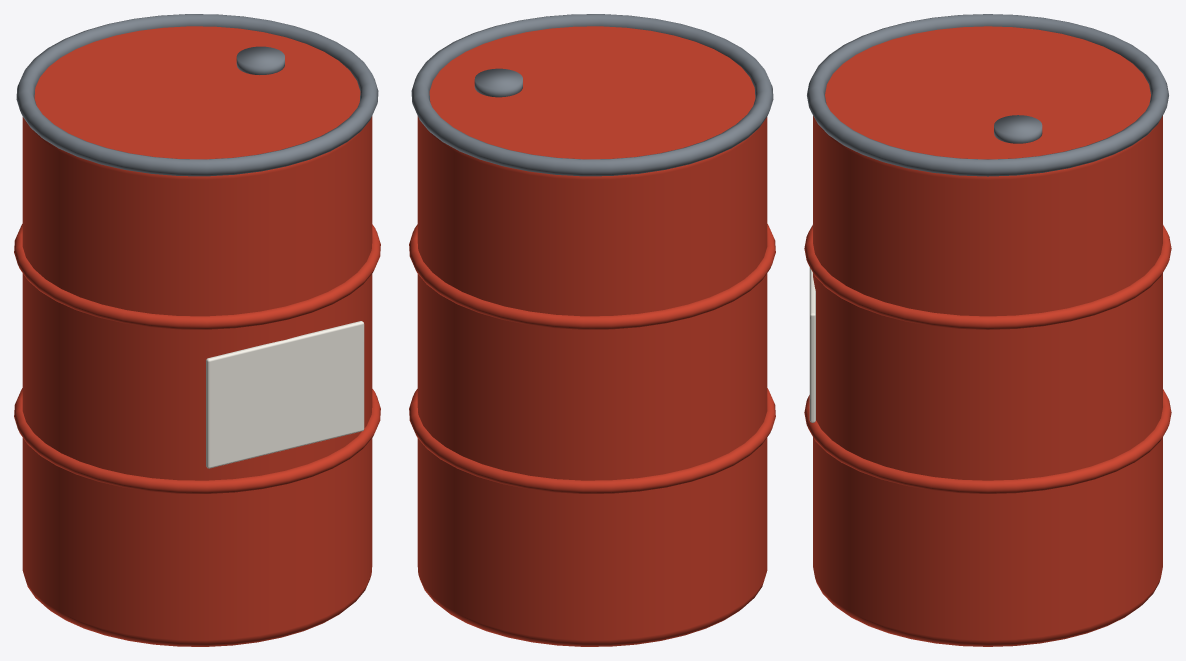
File: drum_red.glb
3 views of the same model, side by side, from view 1: azimuth 30°, elevation 25°; view 2: azimuth 150°, elevation 25°; view 3: azimuth 270°, elevation 25° (orthographic).
Parts seen in each view (by area): view 1: Barrel.001, Label.001, Rim.002, Rib.002, Rib.003, Bung.001; view 2: Barrel.001, Rim.002, Rib.002, Rib.003, Bung.001; view 3: Barrel.001, Rim.002, Rib.003, Rib.002, Bung.001, Label.001.
Part boxes in pixels (x1,y1,x2,y2): Barrel.001: [22, 26, 372, 646]; Label.001: [206, 321, 364, 468]; Rim.002: [16, 14, 378, 176]; Rib.002: [14, 388, 380, 493]; Rib.003: [14, 224, 380, 329]; Bung.001: [236, 46, 284, 74]; Barrel.001: [417, 26, 767, 646]; Rim.002: [411, 14, 773, 176]; Rib.002: [409, 388, 775, 493]; Rib.003: [409, 224, 775, 329]; Bung.001: [474, 68, 522, 97]; Barrel.001: [813, 26, 1162, 646]; Rim.002: [807, 14, 1168, 176]; Rib.003: [804, 225, 1171, 329]; Rib.002: [804, 389, 1171, 493]; Bung.001: [994, 115, 1042, 143]; Label.001: [809, 267, 815, 422].
Bounding box in the file's own units: 0.608 × 0.895 × 0.608.
